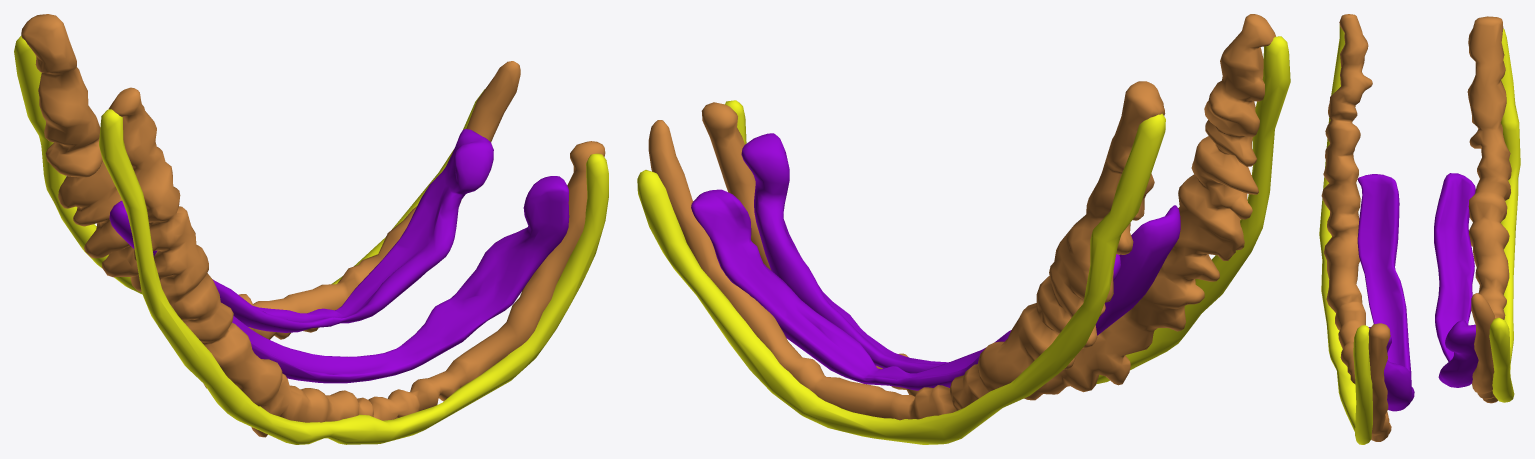
The model's file is UrogenitalRidge_Puzzle.fbx.
3 renders of one model, left to right at view 1: azimuth 30°, elevation 25°; view 2: azimuth 150°, elevation 25°; view 3: azimuth 270°, elevation 25°, orthographic. The views are drawn at different scales.
Visible parts, largest first — view 1: UrogenitalRidge; view 2: UrogenitalRidge; view 3: UrogenitalRidge.
Part boxes in pixels (x1,y1,x2,y2): UrogenitalRidge: (14, 14, 608, 444); UrogenitalRidge: (637, 14, 1290, 444); UrogenitalRidge: (1319, 14, 1520, 444).
Bounding box in the file's own units: 15.63 × 12.02 × 7.01.
